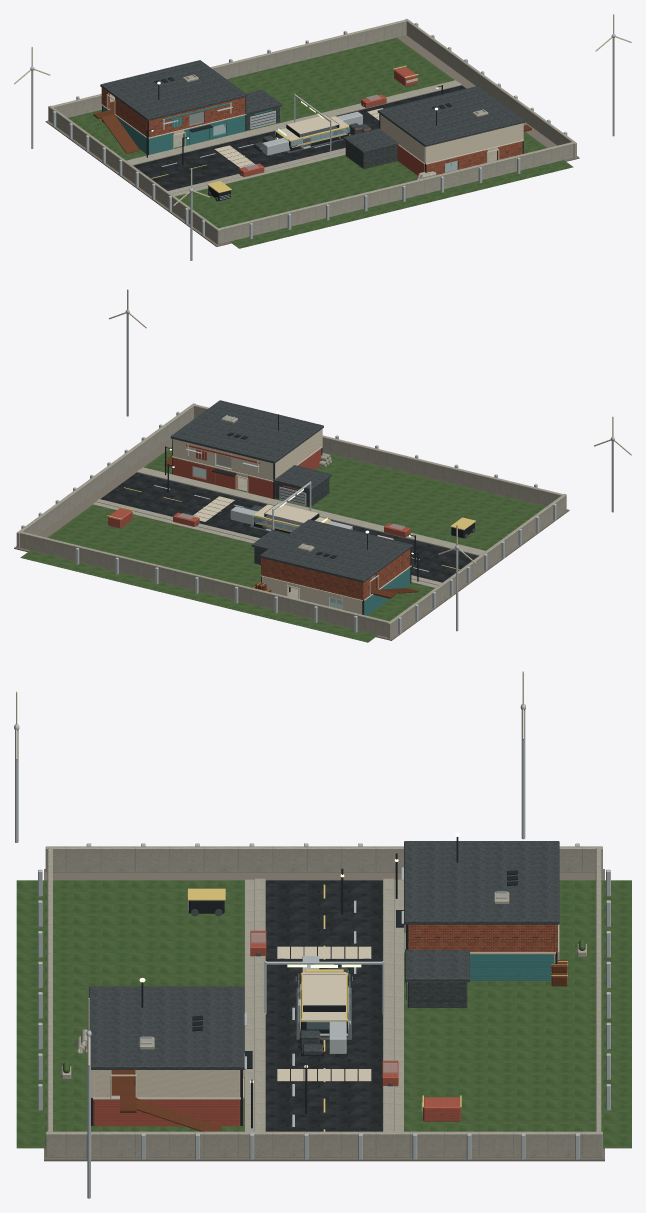
File: atomic-acres-blender-arena.glb
3 views of the same model, one above another, from view 1: azimuth 30°, elevation 25°; view 2: azimuth 150°, elevation 25°; view 3: azimuth 270°, elevation 25° (orthographic). The views are drawn at different scales.
Parts seen in each view (by area): view 1: BLD_BATCH_MAT_ground_olive, BLD_BATCH_MAT_boundary_warm_concrete, BLD_BATCH_MAT_roof_shingles, BLD_BATCH_MAT_asphalt_charcoal, BLD_BATCH_MAT_concrete_weathered, BLD_BATCH_MAT_brushed_alloy, BLD_BATCH_MAT_trim_bone, BLD_BATCH_MAT_coral_upper_plaster, BLD_BATCH_MAT_aqua_upper_brick, BLD_BATCH_MAT_earth_edge, BLD_BATCH_MAT_aqua_oxidized, BLD_BATCH_MAT_concrete_dark (+8 smaller); view 2: BLD_BATCH_MAT_ground_olive, BLD_BATCH_MAT_boundary_warm_concrete, BLD_BATCH_MAT_roof_shingles, BLD_BATCH_MAT_asphalt_charcoal, BLD_BATCH_MAT_concrete_weathered, BLD_BATCH_MAT_brushed_alloy, BLD_BATCH_MAT_coral_oxide, BLD_BATCH_MAT_aqua_upper_brick, BLD_BATCH_MAT_trim_bone, BLD_BATCH_MAT_coral_upper_plaster, BLD_BATCH_MAT_earth_edge, BLD_BATCH_MAT_gunmetal (+4 smaller); view 3: BLD_BATCH_MAT_ground_olive, BLD_BATCH_MAT_boundary_warm_concrete, BLD_BATCH_MAT_roof_shingles, BLD_BATCH_MAT_asphalt_charcoal, BLD_BATCH_MAT_concrete_weathered, BLD_BATCH_MAT_brushed_alloy, BLD_BATCH_MAT_trim_bone, BLD_BATCH_MAT_earth_edge, BLD_BATCH_MAT_coral_oxide, BLD_BATCH_MAT_aqua_upper_brick, BLD_BATCH_MAT_coral_upper_plaster, BLD_BATCH_MAT_gunmetal (+4 smaller).
Part boxes in pixels (x1,y1,x2,y2): BLD_BATCH_MAT_ground_olive: [68, 38, 573, 248]; BLD_BATCH_MAT_boundary_warm_concrete: [48, 19, 576, 244]; BLD_BATCH_MAT_roof_shingles: [100, 60, 524, 153]; BLD_BATCH_MAT_asphalt_charcoal: [133, 85, 465, 190]; BLD_BATCH_MAT_concrete_weathered: [126, 80, 496, 196]; BLD_BATCH_MAT_brushed_alloy: [30, 22, 615, 260]; BLD_BATCH_MAT_trim_bone: [14, 14, 631, 205]; BLD_BATCH_MAT_coral_upper_plaster: [380, 114, 523, 163]; BLD_BATCH_MAT_aqua_upper_brick: [101, 88, 245, 137]; BLD_BATCH_MAT_earth_edge: [45, 35, 579, 246]; BLD_BATCH_MAT_aqua_oxidized: [149, 102, 338, 154]; BLD_BATCH_MAT_concrete_dark: [246, 106, 397, 168]; BLD_BATCH_MAT_ground_olive: [20, 447, 545, 642]; BLD_BATCH_MAT_boundary_warm_concrete: [16, 403, 566, 638]; BLD_BATCH_MAT_roof_shingles: [170, 400, 412, 582]; BLD_BATCH_MAT_asphalt_charcoal: [100, 472, 478, 582]; BLD_BATCH_MAT_concrete_weathered: [92, 453, 485, 608]; BLD_BATCH_MAT_brushed_alloy: [21, 310, 614, 633]; BLD_BATCH_MAT_coral_oxide: [108, 444, 410, 537]; BLD_BATCH_MAT_aqua_upper_brick: [261, 549, 410, 600]; BLD_BATCH_MAT_trim_bone: [109, 289, 631, 604]; BLD_BATCH_MAT_coral_upper_plaster: [173, 429, 322, 480]; BLD_BATCH_MAT_earth_edge: [14, 438, 569, 640]; BLD_BATCH_MAT_gunmetal: [145, 414, 474, 614]; BLD_BATCH_MAT_ground_olive: [16, 880, 631, 1148]; BLD_BATCH_MAT_boundary_warm_concrete: [45, 846, 602, 1157]; BLD_BATCH_MAT_roof_shingles: [89, 841, 559, 1069]; BLD_BATCH_MAT_asphalt_charcoal: [265, 880, 382, 1131]; BLD_BATCH_MAT_concrete_weathered: [61, 878, 586, 1131]; BLD_BATCH_MAT_brushed_alloy: [14, 704, 610, 1198]; BLD_BATCH_MAT_trim_bone: [16, 671, 559, 1114]; BLD_BATCH_MAT_earth_edge: [44, 869, 604, 1161]; BLD_BATCH_MAT_coral_oxide: [94, 930, 460, 1126]; BLD_BATCH_MAT_aqua_upper_brick: [408, 924, 557, 952]; BLD_BATCH_MAT_coral_upper_plaster: [91, 1070, 240, 1097]; BLD_BATCH_MAT_gunmetal: [91, 837, 557, 1128].
Bounding box in the file's own units: 102 × 24.53 × 68.3.
28 materials, 20 textured.
